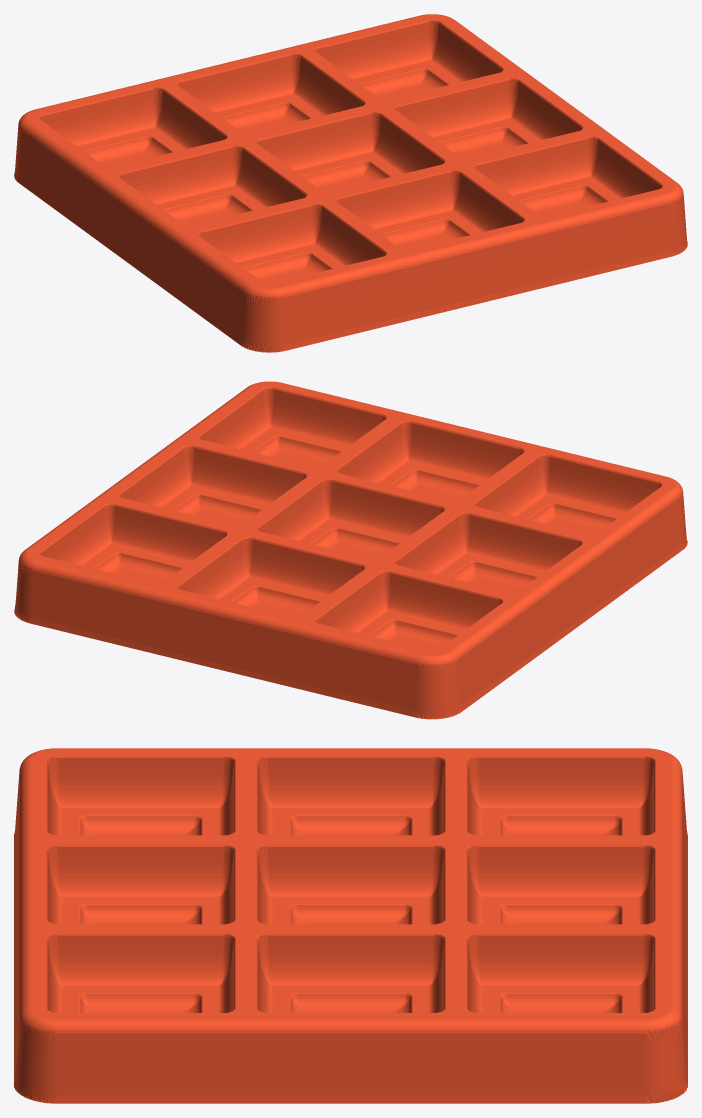
File: mold.glb
3 renders of one model, top to bottom at view 1: azimuth 30°, elevation 25°; view 2: azimuth 150°, elevation 25°; view 3: azimuth 270°, elevation 25°, orthographic. The views are drawn at different scales.
Parts seen in each view (by area): view 1: geometry_0; view 2: geometry_0; view 3: geometry_0.
Boxes of the visible parts, box(x1,y1,x2,y2) form: geometry_0: box(14, 14, 687, 352); geometry_0: box(14, 381, 687, 719); geometry_0: box(14, 748, 687, 1103).
Bounding box in the file's own units: 0.1387 × 0.0175 × 0.1387.
